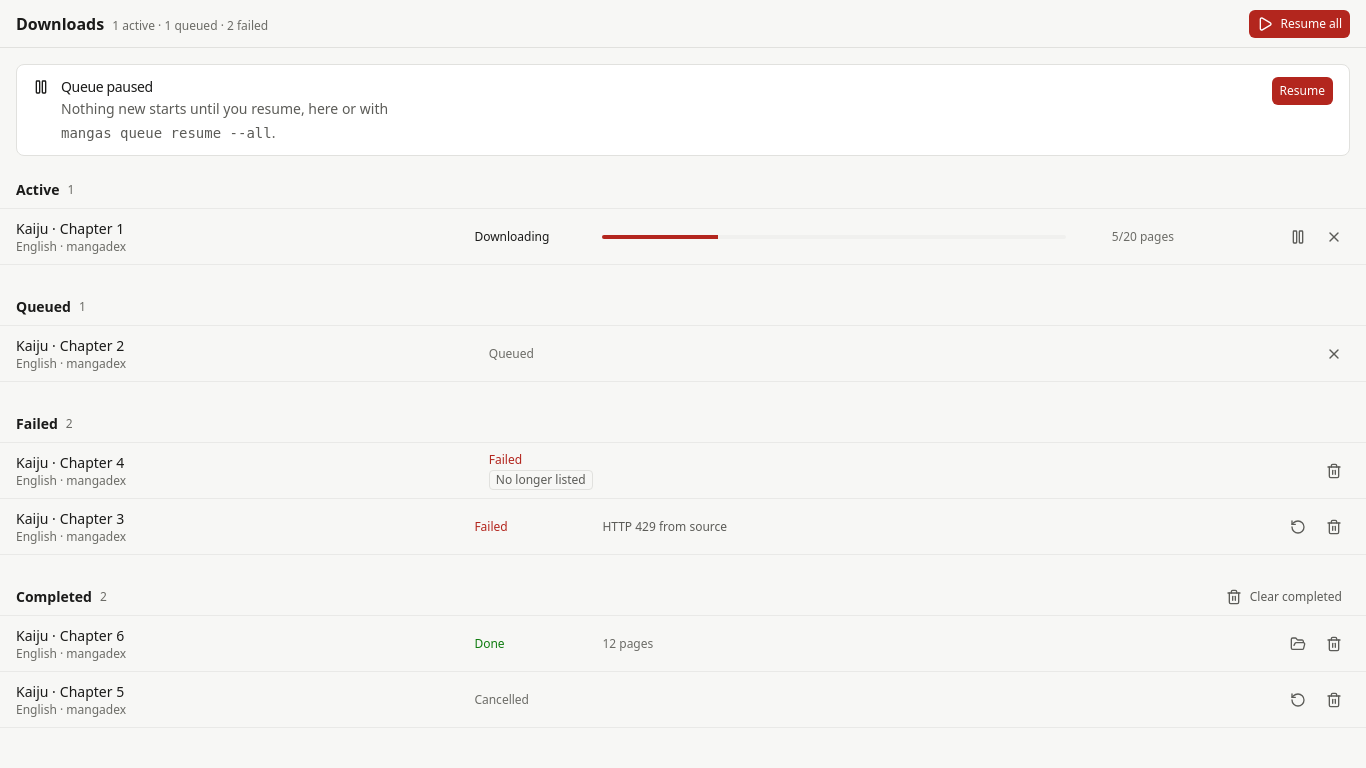
Downloads screen › shows the paused banner with Resume, and follows gate events
The width and height of the screenshot is (1366, 768).
Expected: the text "Queue paused" is shown, left=61, top=77, right=153, bottom=96
Click the button "Resume": (1302, 91) left=1272, top=77, right=1333, bottom=105
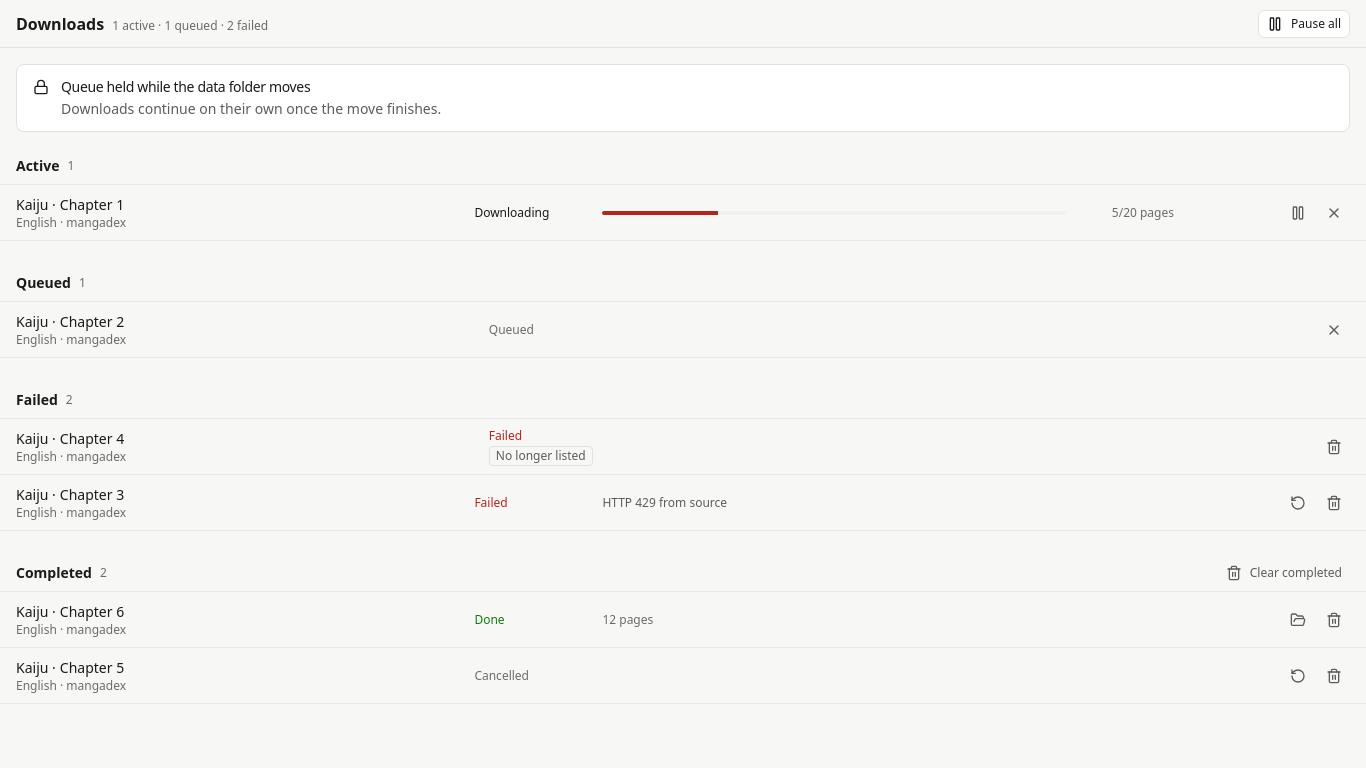
Now the text "Queue paused" is gone
Now the text "Queue held while the data folder moves" is shown, box left=61, top=77, right=310, bottom=96
